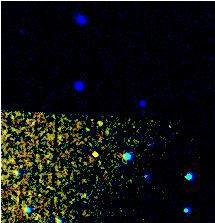star: (80, 140, 110, 170)
